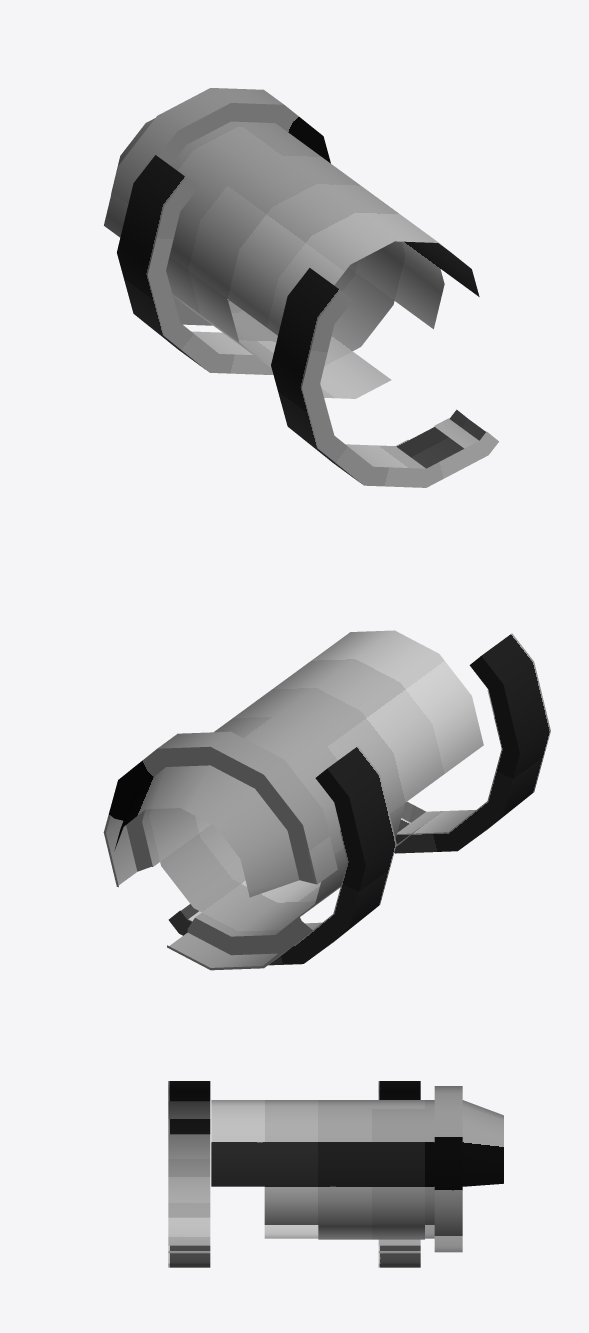
The model's file is fleija.obj.
3 views of the same model, one above another, from view 1: azimuth 30°, elevation 25°; view 2: azimuth 150°, elevation 25°; view 3: azimuth 270°, elevation 25° (orthographic). The views are drawn at different scales.
Parts seen in each view (by area): view 1: Cylinder.001; view 2: Cylinder.001; view 3: Cylinder.001.
Boxes of the visible parts, <box> form: Cylinder.001: <box>104,88,498,487</box>; Cylinder.001: <box>103,630,550,970</box>; Cylinder.001: <box>168,1081,503,1267</box>.
Size of the model in its own units: 1 by 0.9375 by 2.5.
